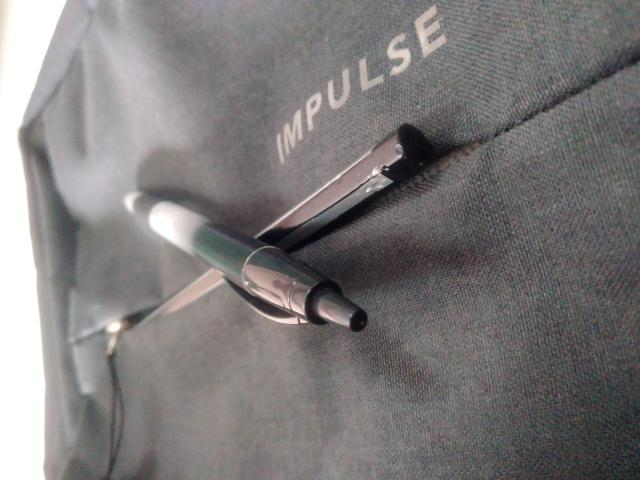PEN: (137, 120, 287, 384)
